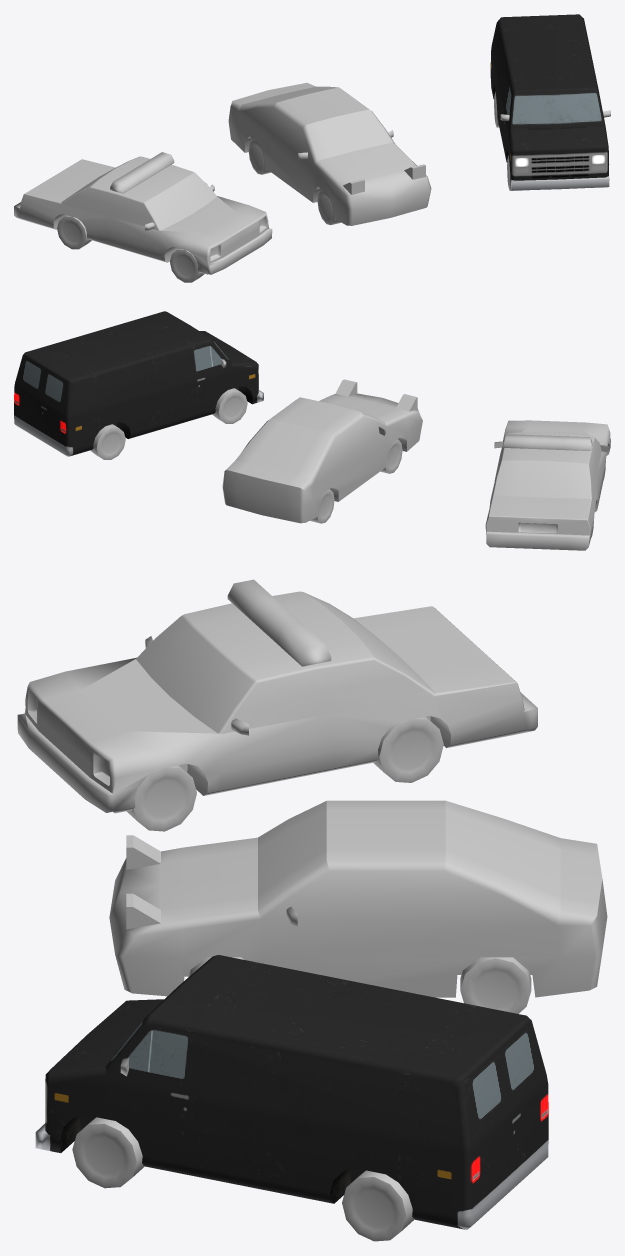
Rendered from Sketchfab_2021_02_28_23_21_28.fbx.
3 renders of one model, top to bottom at view 1: azimuth 30°, elevation 25°; view 2: azimuth 150°, elevation 25°; view 3: azimuth 270°, elevation 25°, orthographic. The views are drawn at different scales.
Visible parts, largest first — view 1: Cube.001, Cube, Cube.002, Cylinder.004, Cylinder.005, Cylinder.001, Cylinder; view 2: Cube.002, Cube, Cube.001, Cylinder.008, Cylinder.009, Cylinder, Cylinder.001; view 3: Cube.002, Cube, Cube.001, Cylinder.011, Cylinder.010, Cylinder.007, Cylinder.003, Cylinder.006.
Part boxes in pixels (bbox=[...]): Cube.001: bbox=[14, 152, 272, 274]; Cube: bbox=[228, 82, 431, 225]; Cube.002: bbox=[490, 14, 609, 190]; Cylinder.004: bbox=[57, 215, 91, 249]; Cylinder.005: bbox=[170, 248, 204, 282]; Cylinder.001: bbox=[317, 190, 340, 224]; Cylinder: bbox=[248, 139, 270, 174]; Cube.002: bbox=[14, 311, 263, 456]; Cube: bbox=[222, 379, 422, 523]; Cube.001: bbox=[485, 420, 610, 550]; Cylinder.008: bbox=[90, 424, 125, 459]; Cylinder.009: bbox=[212, 388, 247, 423]; Cylinder: bbox=[310, 489, 334, 523]; Cylinder.001: bbox=[380, 439, 402, 473]; Cube.002: bbox=[35, 955, 548, 1229]; Cube: bbox=[109, 800, 607, 997]; Cube.001: bbox=[17, 579, 537, 813]; Cylinder.011: bbox=[342, 1170, 414, 1241]; Cylinder.010: bbox=[72, 1117, 144, 1188]; Cylinder.007: bbox=[373, 717, 443, 782]; Cylinder.003: bbox=[460, 957, 531, 1013]; Cylinder.006: bbox=[126, 765, 196, 831].
Bounding box in the file's own units: 893 × 132 × 400.
